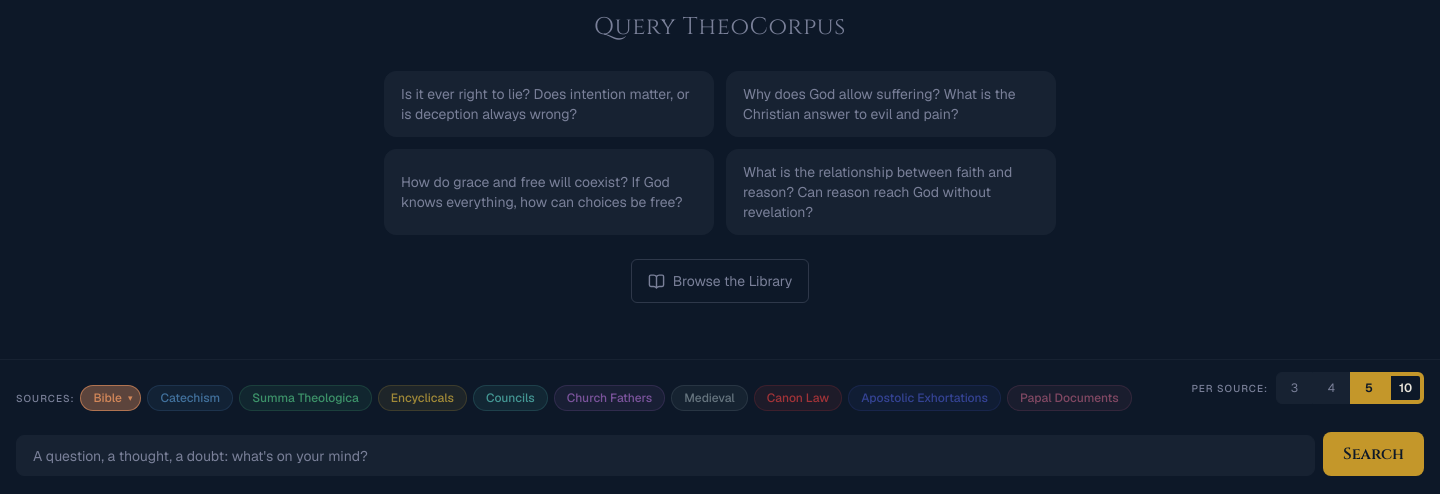
Test: search default save status › waits before showing a saving status, then confirms the default
Step 1. Click the button named "10 passages per source" → [1406, 388], box 1387,372 -> 1424,404
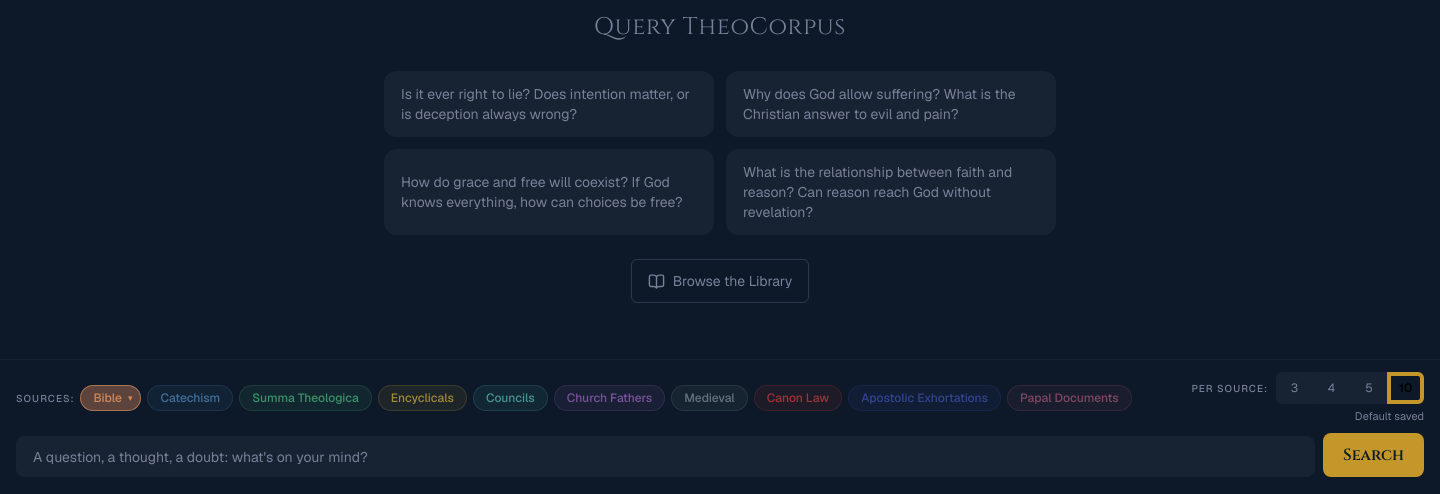
Result: the text "Default saved" is shown at 1355,408 -> 1424,424
